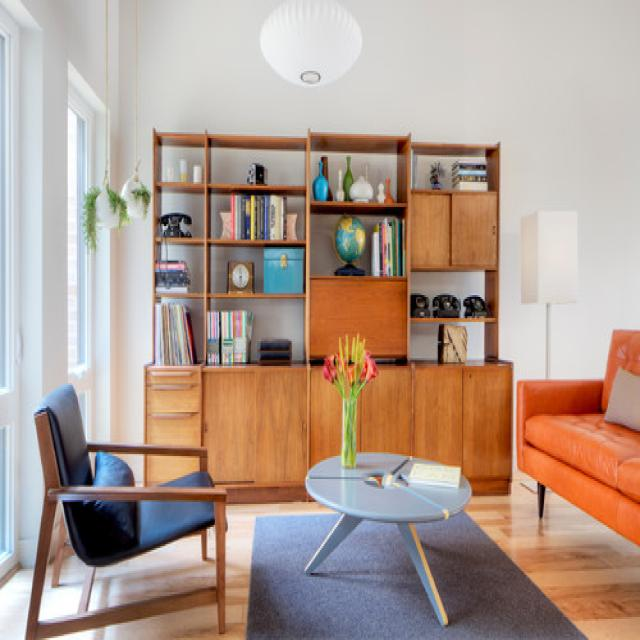vintage chair: (27, 382, 234, 636)
vintage shelf: (146, 113, 515, 449)
